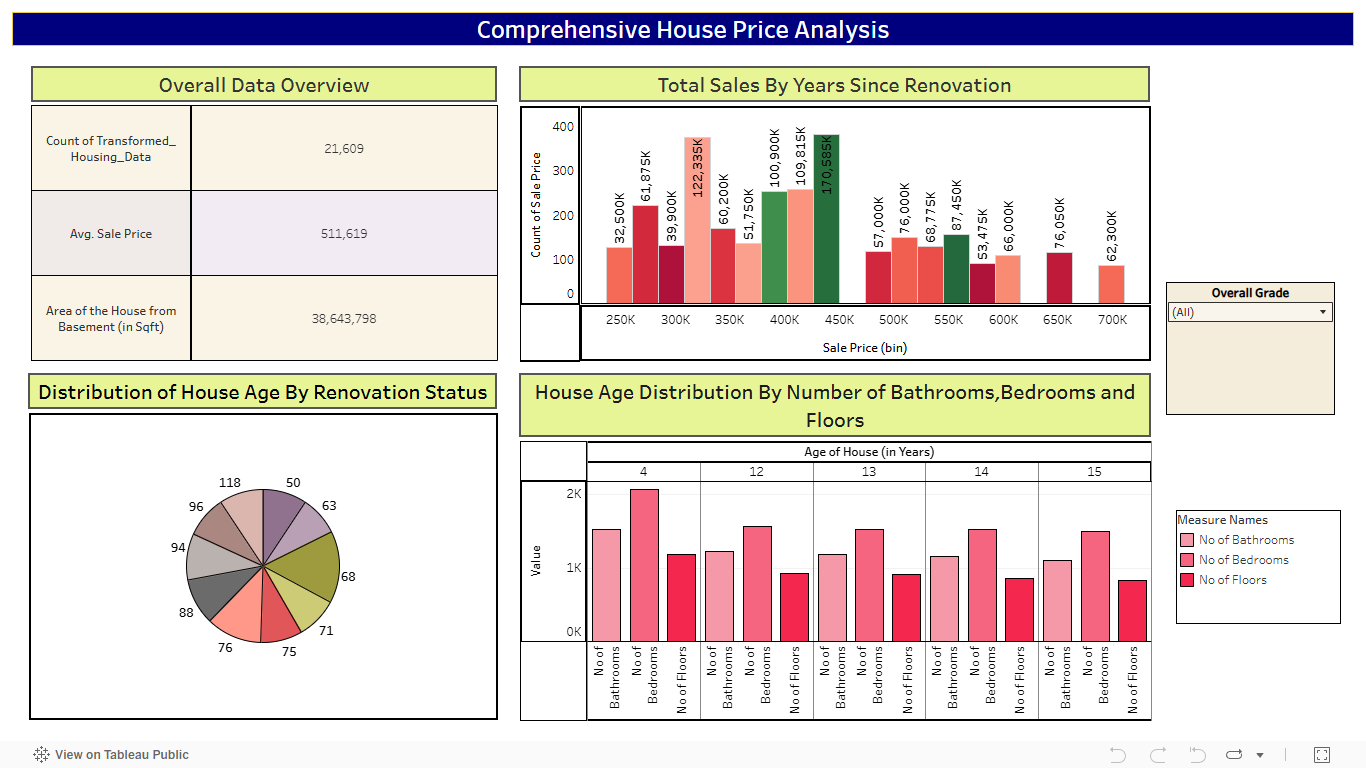

The dashboard page shown, as its layout file describes it:
{"tool":"tableau","page":{"name":"Comprehensive House Price Analysis","canvas":[1000,1000],"units":"permille","ordinal":0},"visuals":[{"type":"title","box":[6.9,14.5,986.1,74.3]},{"type":"worksheet","title":"Scenario1","mark":"Automatic","box":[22.5,88.8,342,398.6]},{"type":"worksheet","title":"Scenario2","mark":"Automatic","rows":["Sale_Price"],"cols":["Sale Price (bin)"],"box":[380.1,88.8,462.3,400.4]},{"type":"filter","title":"Scenario1","param":"[federated.1ais6th0cmvxpa11qofpl0fxqsah].[none:Overall Grade:ok]","box":[853.7,380.4,123.8,179.3]},{"type":"worksheet","title":"Scenario3","mark":"Pie","box":[20.8,503.6,343.7,467.4]},{"type":"worksheet","title":"Scenario4","mark":"Automatic","cols":["Age of House (in Years)"],"box":[380.1,503.6,463.2,471]},{"type":"legend","title":"Scenario4","param":"[federated.1ais6th0cmvxpa11qofpl0fxqsah].[:Measure Names]","box":[860.6,688.4,121.2,154]}]}

Visuals, with their boxes on the dashboard's canvas, which has no fixed pixel size, in thousandths of its width and height (x1, y1, x2, y2). These are canvas units, not pixel positions in the 1366x768 screenshot, which may show the page scaled, cropped or inside an application window:
title: (left=7, top=14, right=993, bottom=89)
"Scenario1" worksheet: (left=22, top=89, right=364, bottom=487)
"Scenario2" worksheet: (left=380, top=89, right=842, bottom=489)
"Scenario1" filter: (left=854, top=380, right=978, bottom=560)
"Scenario3" worksheet (Pie marks): (left=21, top=504, right=364, bottom=971)
"Scenario4" worksheet: (left=380, top=504, right=843, bottom=975)
"Scenario4" legend: (left=861, top=688, right=982, bottom=842)
